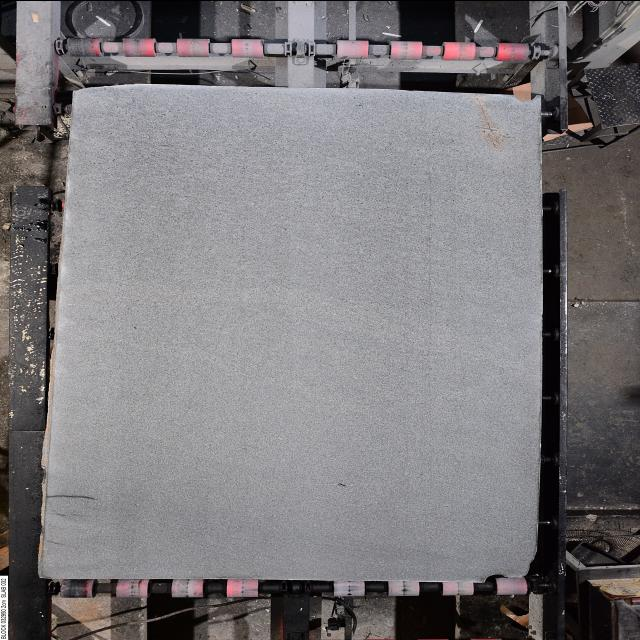chapa: (39, 84, 542, 580)
